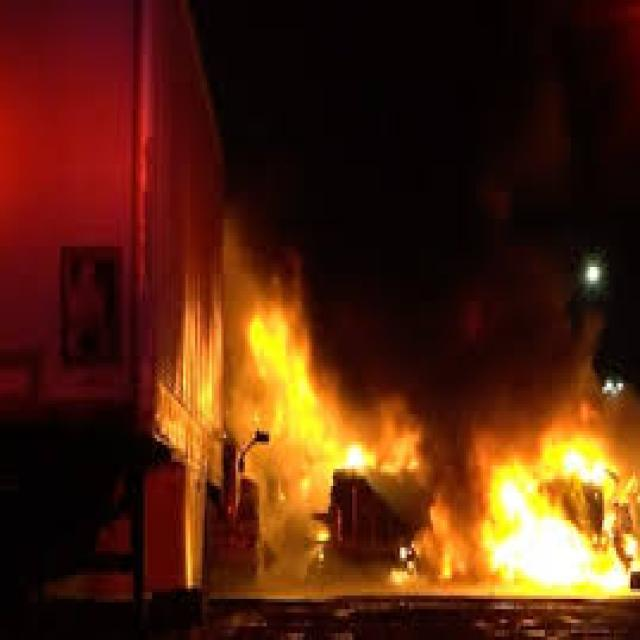fire: (225, 312, 402, 503), (486, 423, 636, 596)
